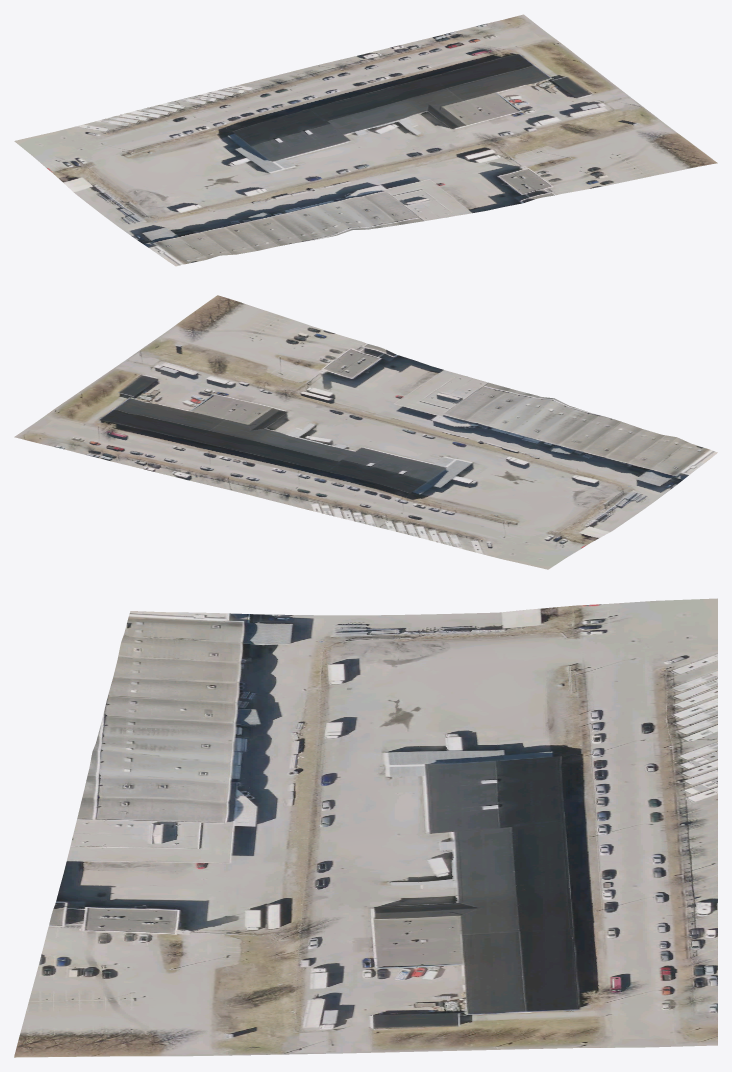
The model's file is CM_Terrain_24489025_6818565.fbx.
3 renders of one model, top to bottom at view 1: azimuth 30°, elevation 25°; view 2: azimuth 150°, elevation 25°; view 3: azimuth 270°, elevation 25°, orthographic. The views are drawn at different scales.
Visible parts, largest first — view 1: CM_Terrain_24489025_6818565_LOD0; view 2: CM_Terrain_24489025_6818565_LOD0; view 3: CM_Terrain_24489025_6818565_LOD0.
Part boxes in pixels (box(x1,y1,x2,y2)): CM_Terrain_24489025_6818565_LOD0: box(14, 14, 717, 266); CM_Terrain_24489025_6818565_LOD0: box(14, 295, 717, 569); CM_Terrain_24489025_6818565_LOD0: box(14, 598, 717, 1057).
Size of what is drawn, in the model's own units: 205 by 4.45 by 135.
